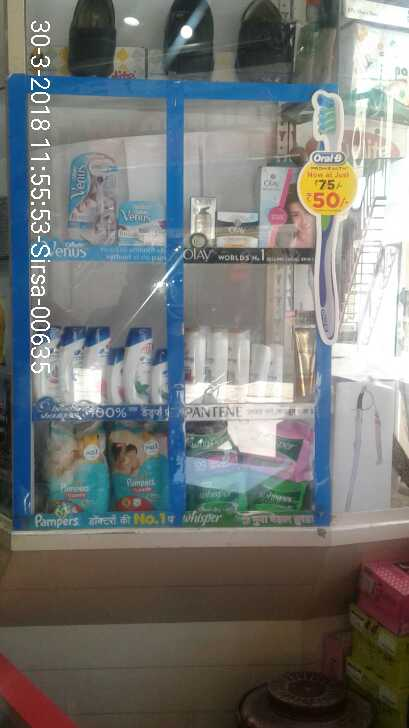venus: (66, 153, 118, 245), (119, 201, 166, 246)
